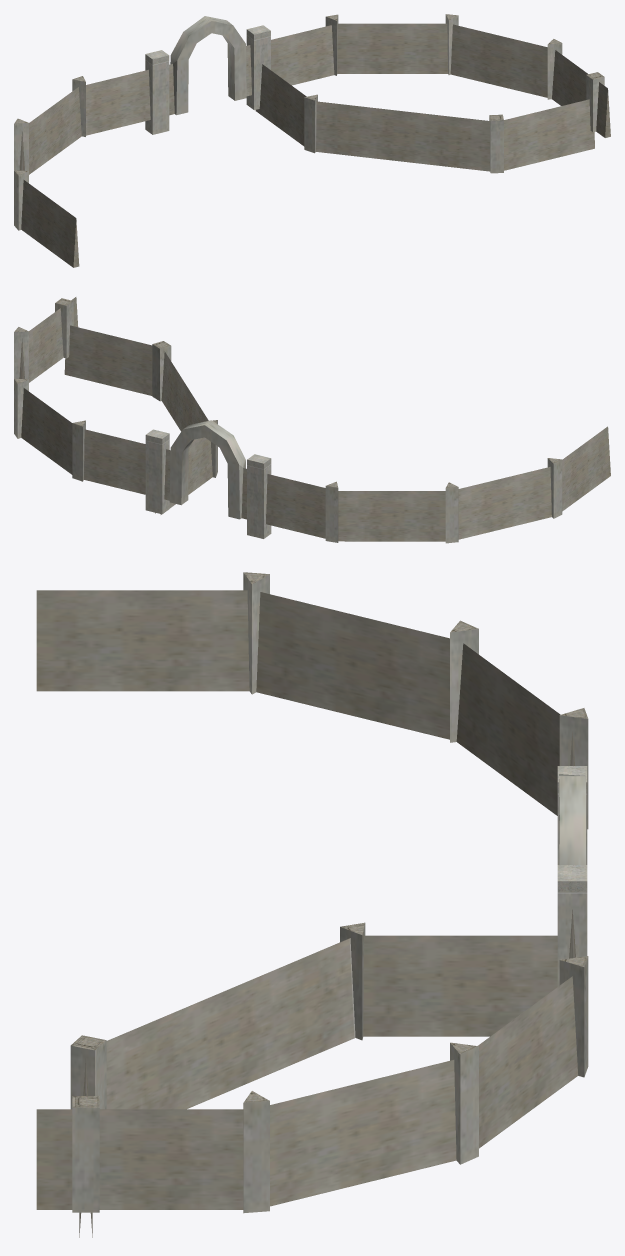
Rendered from poi_all_corral_half_64x64_s02_l1.fbx.
3 renders of one model, top to bottom at view 1: azimuth 30°, elevation 25°; view 2: azimuth 150°, elevation 25°; view 3: azimuth 270°, elevation 25°, orthographic. The views are drawn at different scales.
Visible parts, largest first — view 1: mesh_node; view 2: mesh_node; view 3: mesh_node.
Part boxes in pixels (x1,y1,x2,y2): mesh_node: (14, 14, 610, 267); mesh_node: (14, 297, 610, 543); mesh_node: (36, 572, 588, 1237).
Size of the model in its own units: 46.43 by 8.5 by 20.4.
